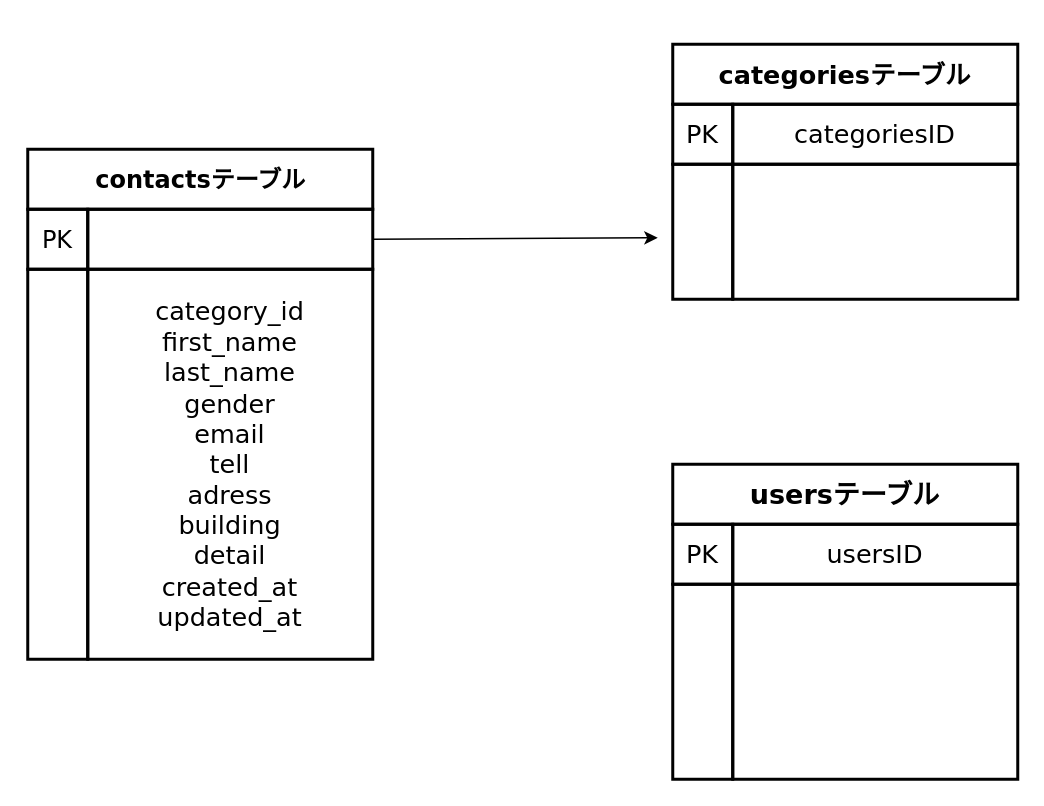
This 1044x806 diagram has some shape labels left out. Here are the shapes that lost their labels. From the top down, the centre of each, then its label:
pixel 230 238: contactsID
pixel 874 231: content created_at updated_at
pixel 874 681: name email password created_at updated_at
